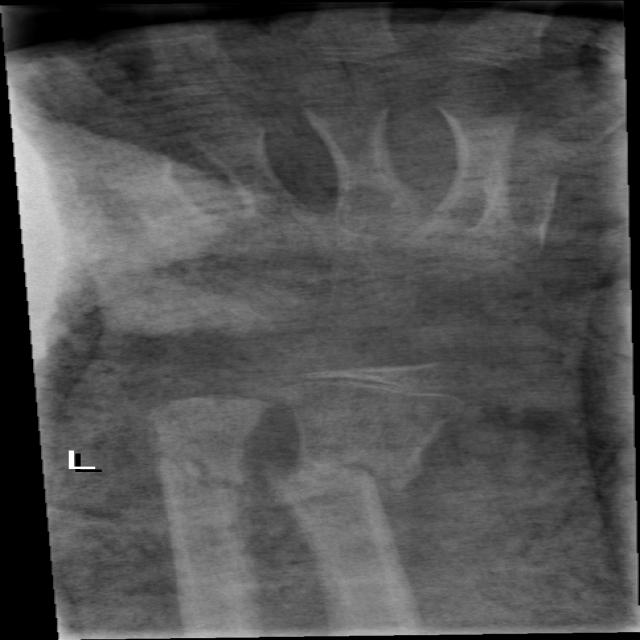radius fracture: (251, 412, 484, 570)
ulna fracture: (130, 448, 282, 576)
